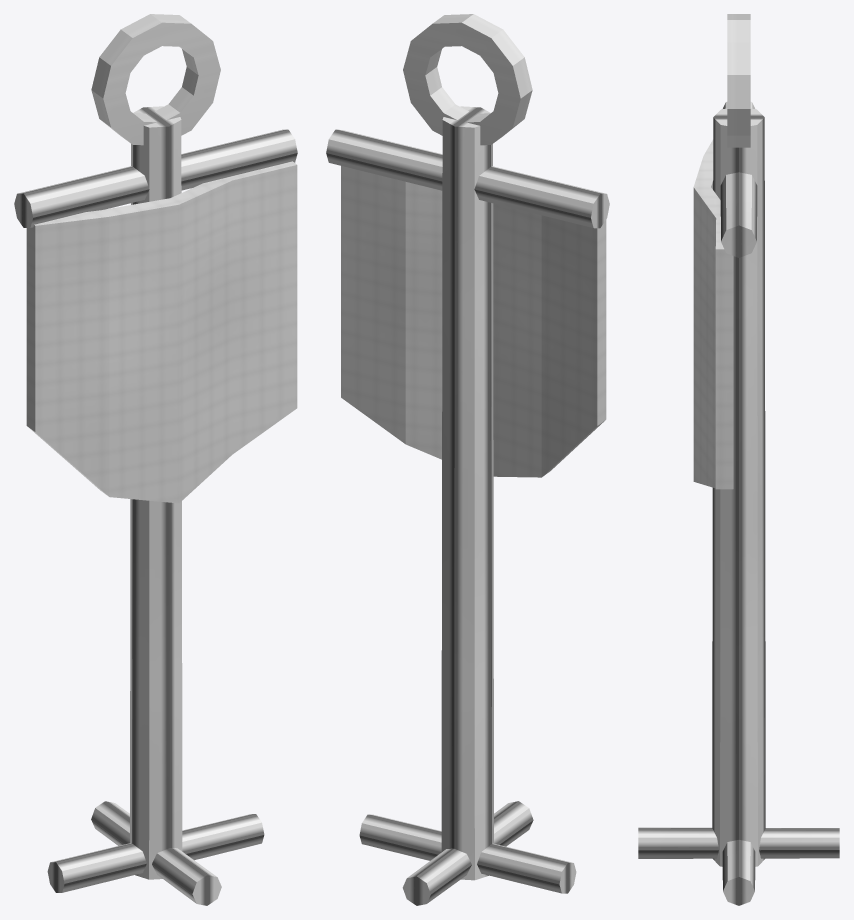
Rendered from sacrificial_flag.obj.
3 views of the same model, side by side, from view 1: azimuth 30°, elevation 25°; view 2: azimuth 150°, elevation 25°; view 3: azimuth 270°, elevation 25° (orthographic).
Parts seen in each view (by area): view 1: sacrificial_flag; view 2: sacrificial_flag; view 3: sacrificial_flag.
Boxes of the visible parts, x1,y1,x2,y2 form: sacrificial_flag: [14, 14, 297, 905]; sacrificial_flag: [326, 14, 609, 905]; sacrificial_flag: [638, 14, 839, 905].
Bounding box in the file's own units: 0.45 × 1.38 × 0.3.
